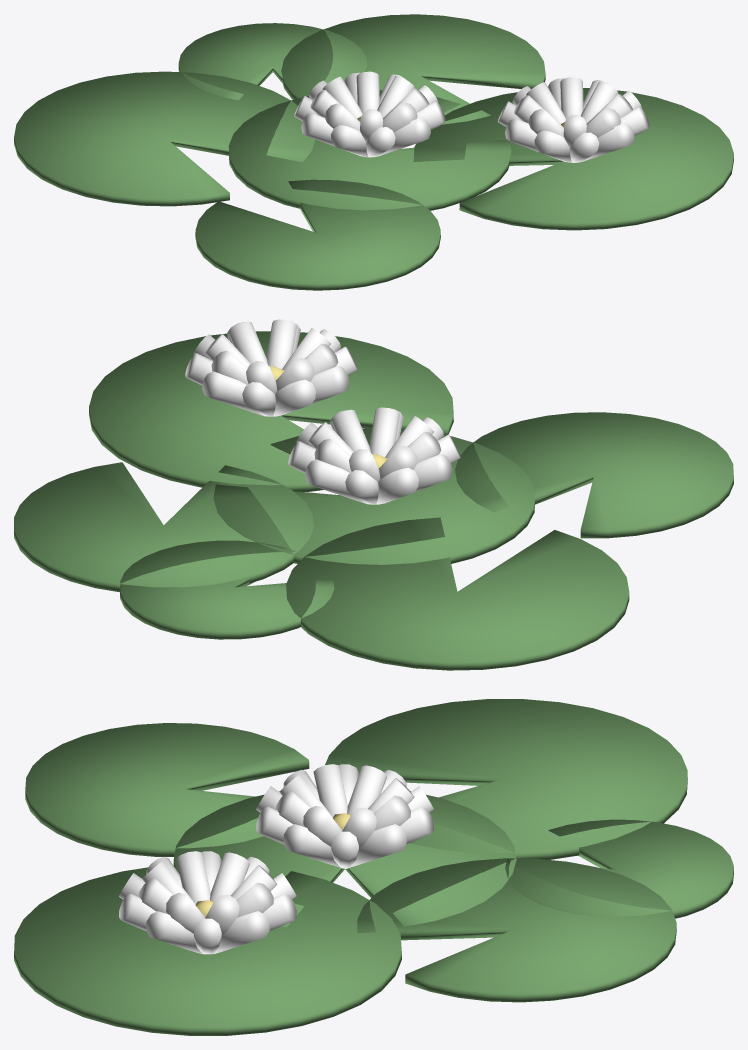
The model's file is water-lilies.glb.
The picture shows the model from 3 angles, top to bottom: view 1: azimuth 30°, elevation 25°; view 2: azimuth 150°, elevation 25°; view 3: azimuth 270°, elevation 25°; orthographic projection. The views are drawn at different scales.
Parts seen in each view (by area): view 1: Floating lily pad, Floating lily pad.002, Floating lily pad.003, Floating lily pad.001, Floating lily pad.004, Floating lily pad.005, Lily petal.011, Lily petal.029, Lily petal.008, Lily petal.026, Lily petal.006, Lily petal.024 (+16 smaller); view 2: Floating lily pad, Floating lily pad.002, Floating lily pad.003, Floating lily pad.001, Floating lily pad.004, Floating lily pad.005, Lily petal.020, Lily petal.002, Lily petal.034, Lily petal.016, Lily petal.022, Lily petal.004 (+18 smaller); view 3: Floating lily pad.002, Floating lily pad, Floating lily pad.001, Floating lily pad.003, Floating lily pad.004, Floating lily pad.005, Lily petal.001, Lily petal.019, Lily petal.032, Lily petal.014, Lily petal.009, Lily petal.027 (+20 smaller).
Part boxes in pixels (<box>): Floating lily pad: <box>14,71,315,206</box>; Floating lily pad.002: <box>413,88,733,230</box>; Floating lily pad.003: <box>195,179,440,290</box>; Floating lily pad.001: <box>281,14,545,124</box>; Floating lily pad.004: <box>228,90,511,210</box>; Floating lily pad.005: <box>178,23,367,100</box>; Lily petal.011: <box>356,71,379,113</box>; Lily petal.029: <box>560,77,583,118</box>; Lily petal.008: <box>377,117,430,156</box>; Lily petal.026: <box>581,123,634,161</box>; Lily petal.006: <box>331,125,368,157</box>; Lily petal.024: <box>534,130,571,162</box>; Floating lily pad: <box>286,517,629,670</box>; Floating lily pad.002: <box>89,331,453,491</box>; Floating lily pad.003: <box>455,412,733,538</box>; Floating lily pad.001: <box>14,462,313,592</box>; Floating lily pad.004: <box>213,428,535,564</box>; Floating lily pad.005: <box>120,540,334,639</box>; Lily petal.020: <box>202,371,262,415</box>; Lily petal.002: <box>305,459,365,503</box>; Lily petal.034: <box>266,319,297,369</box>; Lily petal.016: <box>369,407,399,457</box>; Lily petal.022: <box>273,379,315,416</box>; Lily petal.004: <box>376,467,418,504</box>; Floating lily pad.002: <box>14,867,401,1035</box>; Floating lily pad: <box>325,699,687,859</box>; Floating lily pad.001: <box>357,858,676,1002</box>; Floating lily pad.003: <box>25,723,309,856</box>; Floating lily pad.004: <box>173,791,516,927</box>; Floating lily pad.005: <box>505,819,733,918</box>; Lily petal.001: <box>345,824,406,868</box>; Lily petal.019: <box>213,911,269,953</box>; Lily petal.032: <box>176,851,210,903</box>; Lily petal.014: <box>313,764,347,816</box>; Lily petal.009: <box>283,824,344,868</box>; Lily petal.027: <box>146,911,202,953</box>.
Bounding box in the file's own units: 0.6787 × 0.08 × 0.6296.
